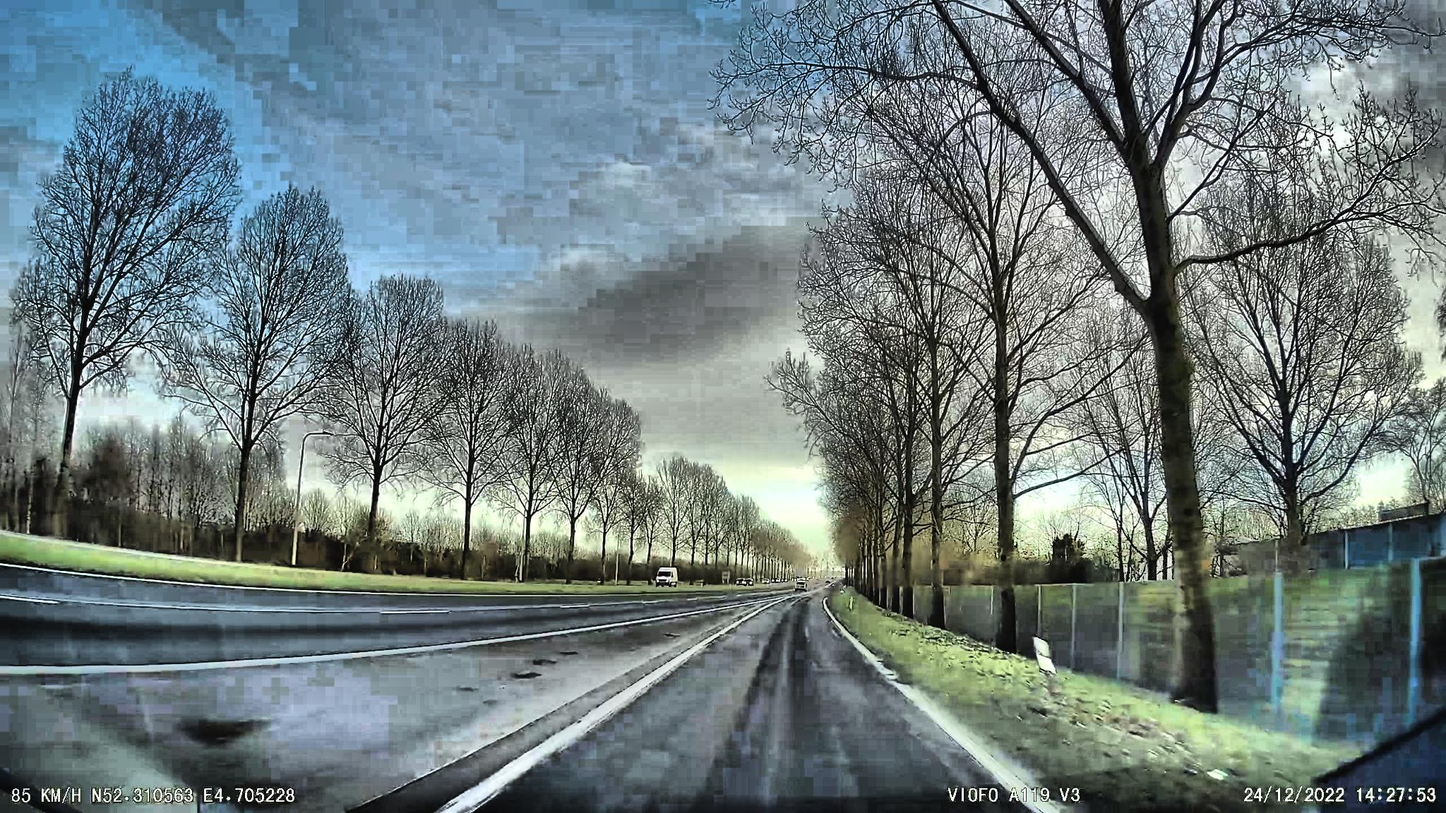Roads: (0, 564, 1031, 813)
